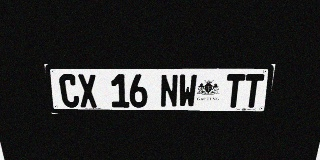1: (110, 74, 130, 107)
6: (129, 74, 148, 107)
C: (58, 74, 80, 107)
N: (160, 74, 178, 107)
T: (242, 74, 265, 108), (224, 74, 246, 108)
W: (178, 74, 197, 108)
X: (77, 74, 98, 107)
